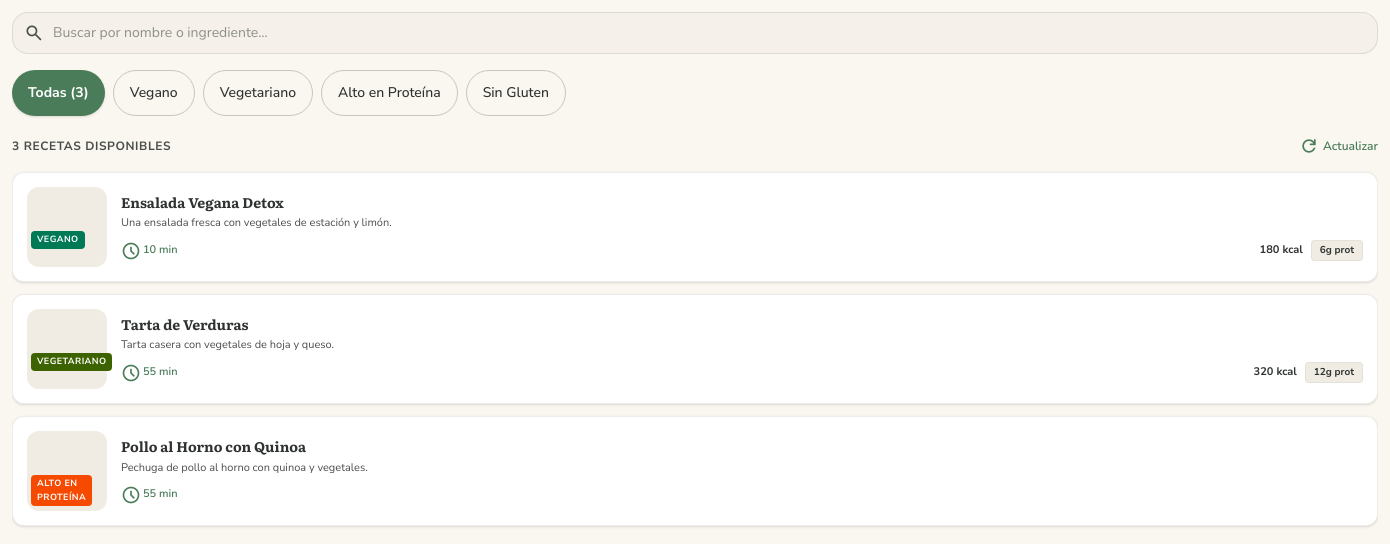
RecipeCatalogList › filters by name search, case-insensitively, and shows a distinct "no results" message when nothing matches
Type "TARTA" into the field labelled "Buscar por nombre o ingrediente...". click: coordinates (695, 33)
box: [12,12,1378,54]
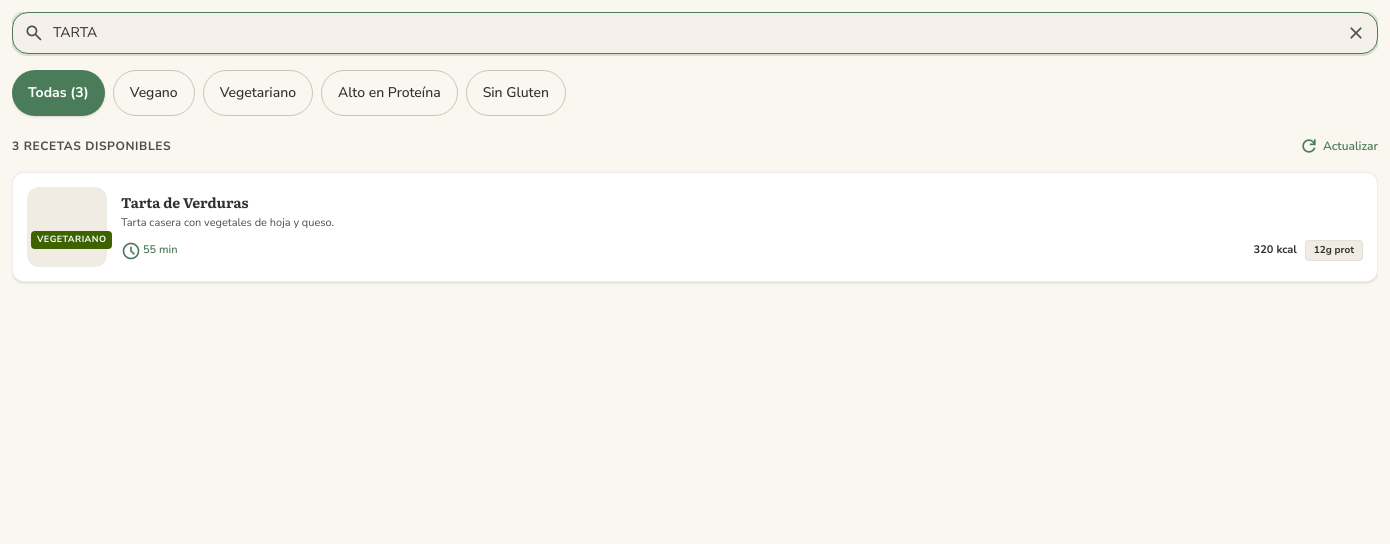
Check: the heading "Tarta de Verduras" is shown, box [121,192,248,212]
Check: the button "Ensalada Vegana Detox" is gone
Replace the text in the field named "Buscar" with "inexistente-xyz". click: coordinates (695, 33)
box: [12,12,1378,54]
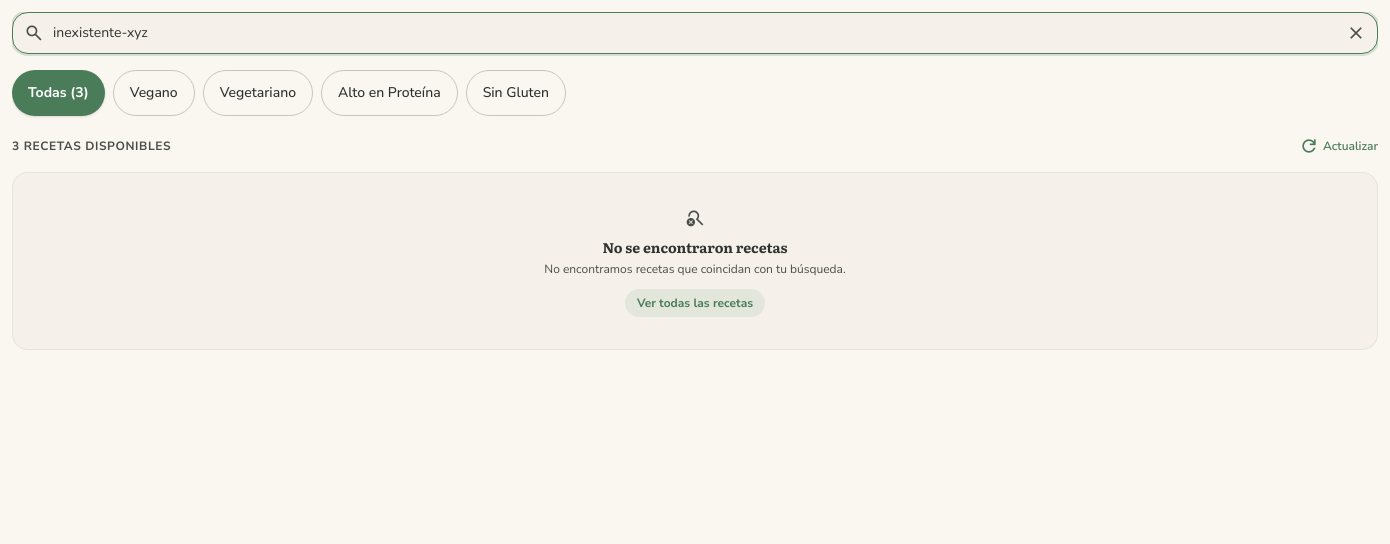
Check: the text "No encontramos recetas que coincidan con tu búsqueda." is shown, box [544,261,846,277]
